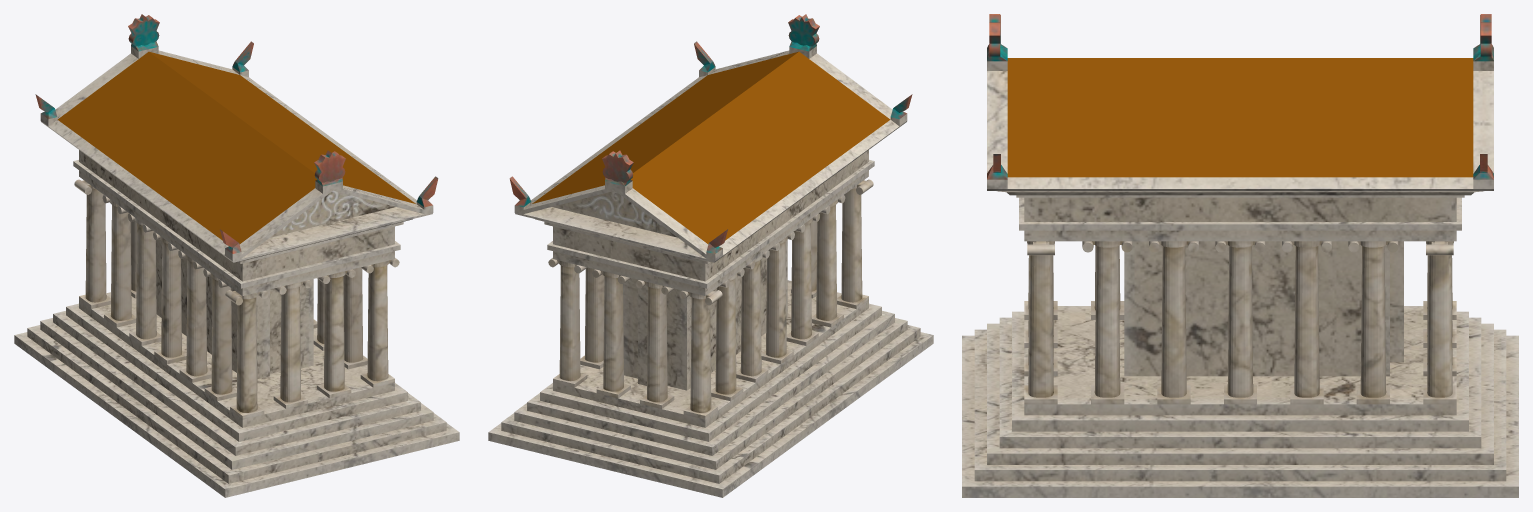
File: sf_temple_greco.glb
3 views of the same model, side by side, from view 1: azimuth 30°, elevation 25°; view 2: azimuth 150°, elevation 25°; view 3: azimuth 270°, elevation 25° (orthographic). The views are drawn at different scales.
Parts seen in each view (by area): view 1: Greco; view 2: Greco; view 3: Greco.
Part boxes in pixels (x1,y1,x2,y2): Greco: (14,14,459,497); Greco: (488,14,933,497); Greco: (962,14,1518,497).
Size of the model in its own units: 645 by 812 by 1005.
Materials: 4 (4 with a texture image).
